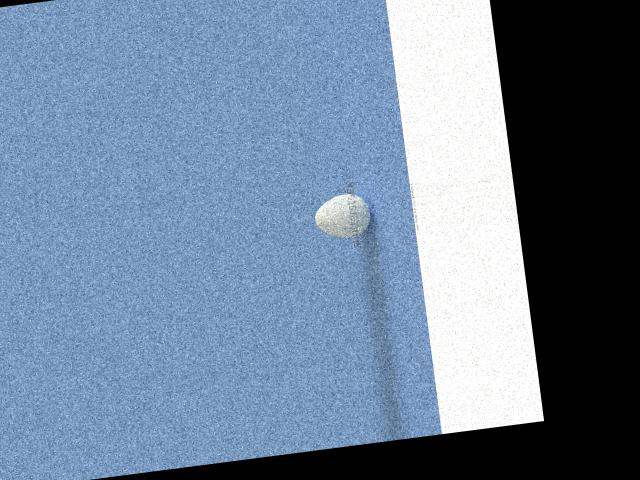egg: (312, 190, 373, 241)
